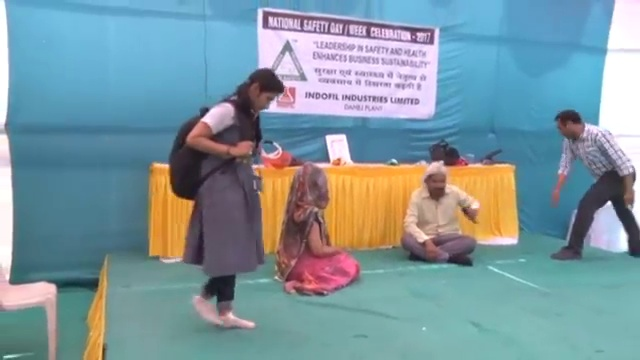helmet_off: (239, 68, 286, 115), (290, 164, 330, 208), (553, 107, 586, 141), (422, 164, 448, 200)
person: (168, 70, 284, 332), (549, 106, 640, 265), (274, 164, 366, 299), (395, 160, 486, 267)
